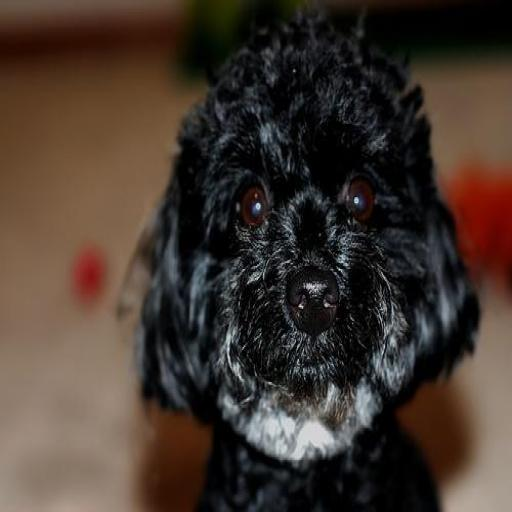dog_face: (148, 28, 454, 394)
